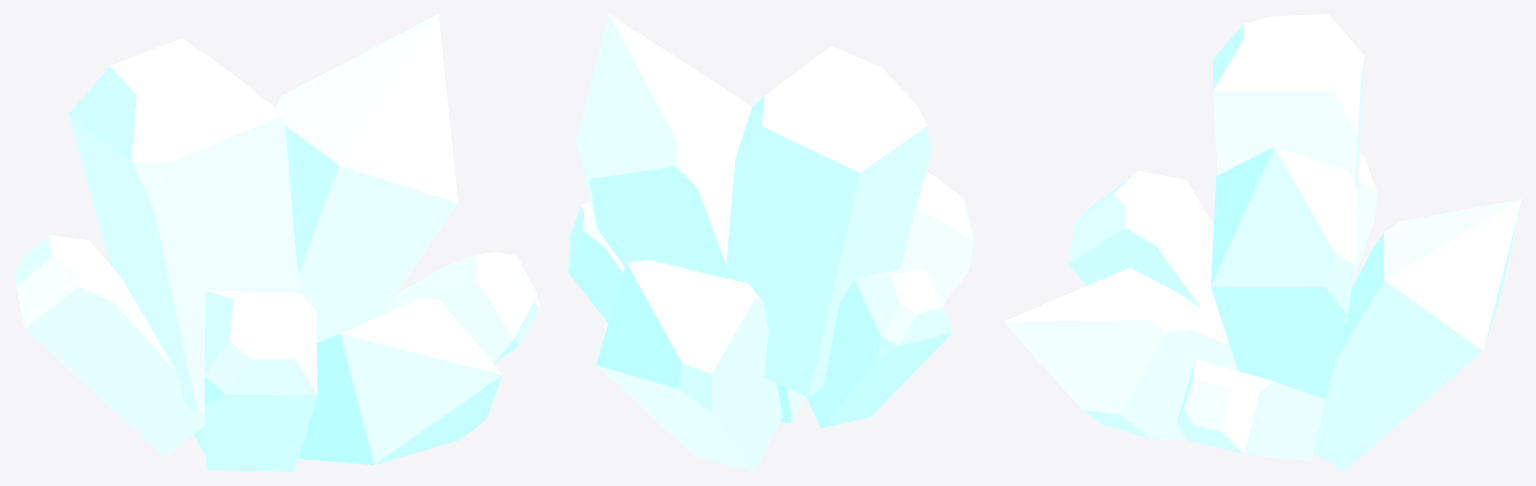
The model's file is IcePatch.fbx.
The picture shows the model from 3 angles, left to right: view 1: azimuth 30°, elevation 25°; view 2: azimuth 150°, elevation 25°; view 3: azimuth 270°, elevation 25°; orthographic projection. The views are drawn at different scales.
Visible parts, largest first — view 1: Cube.062; view 2: Cube.062; view 3: Cube.062.
Boxes of the visible parts, x1,y1,x2,y2 form: Cube.062: [14, 14, 539, 471]; Cube.062: [568, 14, 974, 471]; Cube.062: [1003, 14, 1521, 471].
Size of the model in its own units: 8.47 by 8.96 by 7.52.
